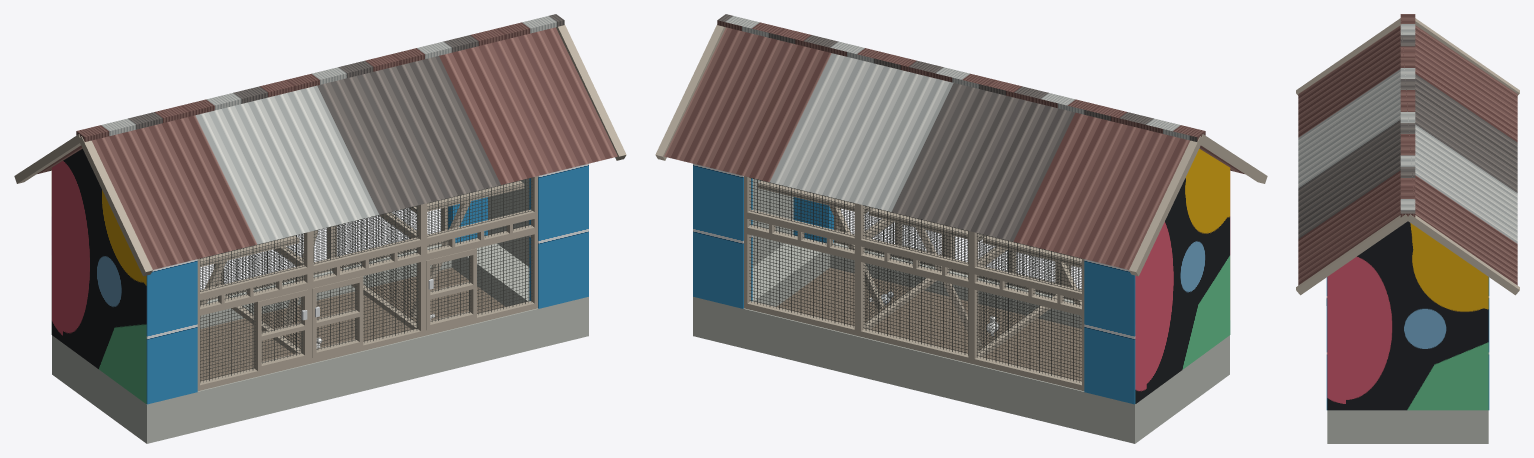
Rendered from kandang_burung_2.glb.
3 renders of one model, left to right at view 1: azimuth 30°, elevation 25°; view 2: azimuth 150°, elevation 25°; view 3: azimuth 270°, elevation 25°, orthographic. The views are drawn at different scales.
Visible parts, largest first — view 1: Atap_Seng_Tambal_Gelombang, Pondasi_Beton_Kandang2, Rangka_Kayu_Pintu_Rak, Kawat_Ram_Kandang2, Mural_Samping_WarnaWarni, Pilar_Biru_GarisPutih, Alas_Tanah_Kandang2; view 2: Atap_Seng_Tambal_Gelombang, Pondasi_Beton_Kandang2, Rangka_Kayu_Pintu_Rak, Kawat_Ram_Kandang2, Mural_Samping_WarnaWarni, Pilar_Biru_GarisPutih, Alas_Tanah_Kandang2; view 3: Atap_Seng_Tambal_Gelombang, Mural_Samping_WarnaWarni, Pondasi_Beton_Kandang2, Rangka_Kayu_Pintu_Rak, Pilar_Biru_GarisPutih.
Part boxes in pixels (x1,y1,x2,y2): Atap_Seng_Tambal_Gelombang: (37, 14, 617, 269); Pondasi_Beton_Kandang2: (52, 179, 588, 443); Rangka_Kayu_Pintu_Rak: (14, 24, 626, 391); Kawat_Ram_Kandang2: (200, 177, 532, 382); Mural_Samping_WarnaWarni: (51, 149, 146, 403); Pilar_Biru_GarisPutih: (146, 163, 588, 404); Alas_Tanah_Kandang2: (200, 268, 505, 381); Atap_Seng_Tambal_Gelombang: (664, 14, 1244, 269); Pondasi_Beton_Kandang2: (693, 179, 1229, 443); Rangka_Kayu_Pintu_Rak: (655, 24, 1267, 391); Kawat_Ram_Kandang2: (749, 177, 1081, 382); Mural_Samping_WarnaWarni: (1135, 149, 1230, 403); Pilar_Biru_GarisPutih: (693, 163, 1135, 404); Alas_Tanah_Kandang2: (776, 268, 1081, 381); Atap_Seng_Tambal_Gelombang: (1298, 14, 1517, 285); Mural_Samping_WarnaWarni: (1327, 221, 1488, 410); Pondasi_Beton_Kandang2: (1327, 410, 1488, 443); Rangka_Kayu_Pintu_Rak: (1296, 18, 1519, 295); Pilar_Biru_GarisPutih: (1326, 277, 1489, 409).
Size of the model in its own units: 4.57 by 2.54 by 2.16.
10 materials, 5 textured.
